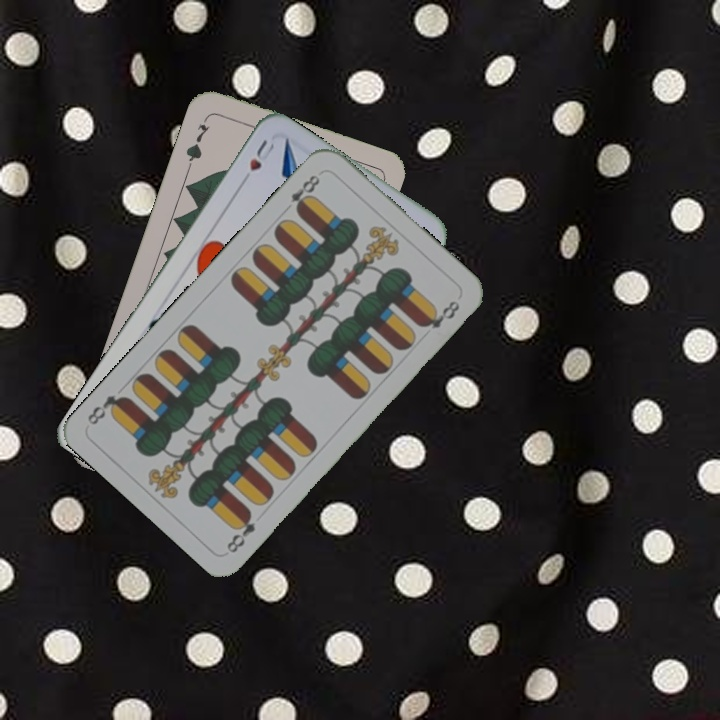E8: (279, 170, 323, 216), (222, 507, 258, 556)
G7: (181, 113, 212, 170)
HU: (239, 135, 277, 188)
